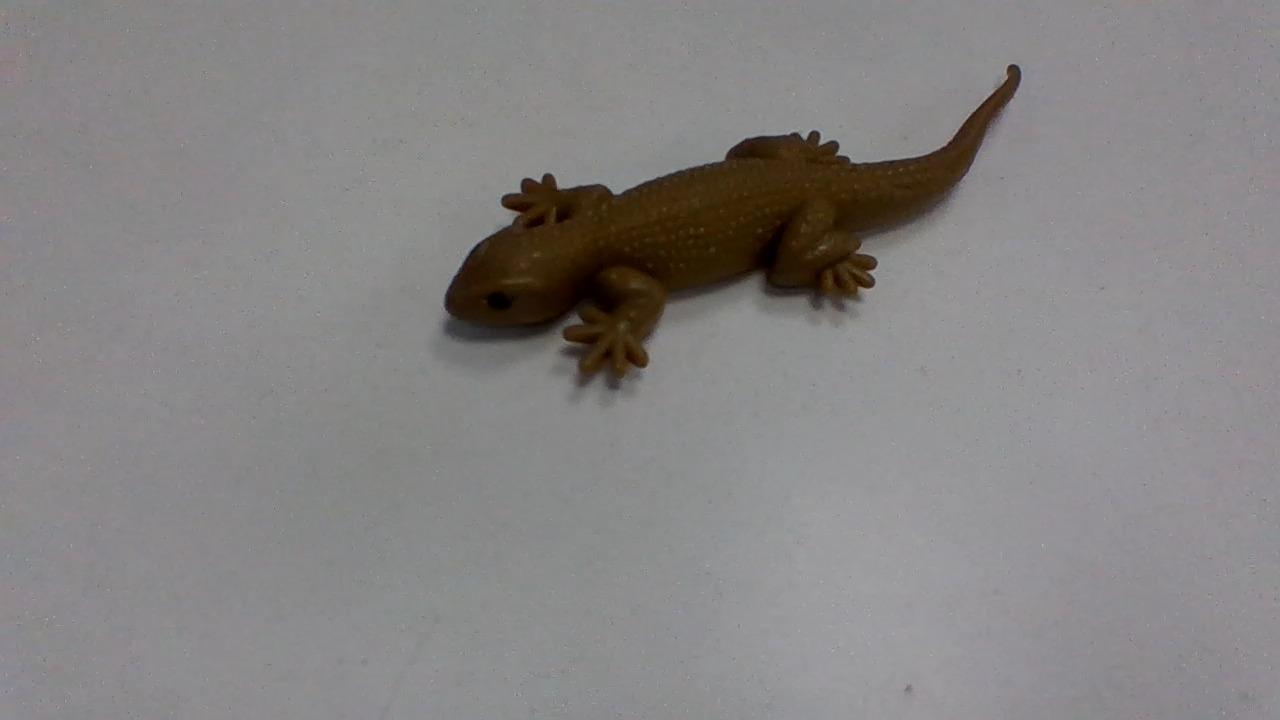lizard: (417, 65, 1030, 385)
